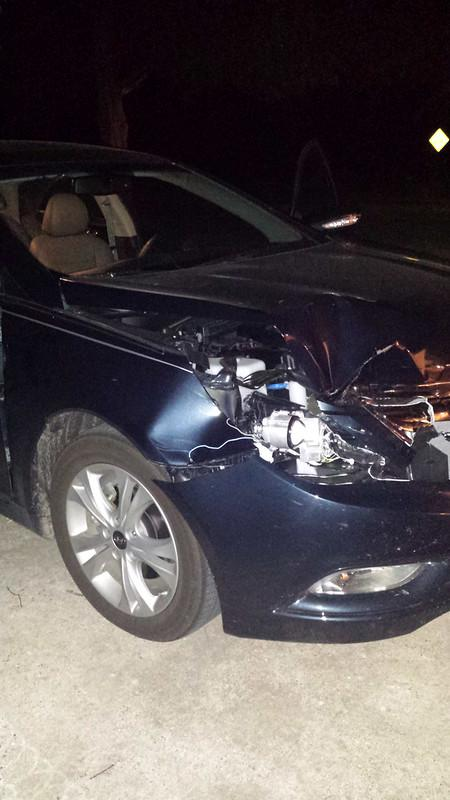bonnet-dent: (139, 236, 428, 372)
fender-dent: (57, 346, 256, 482)
